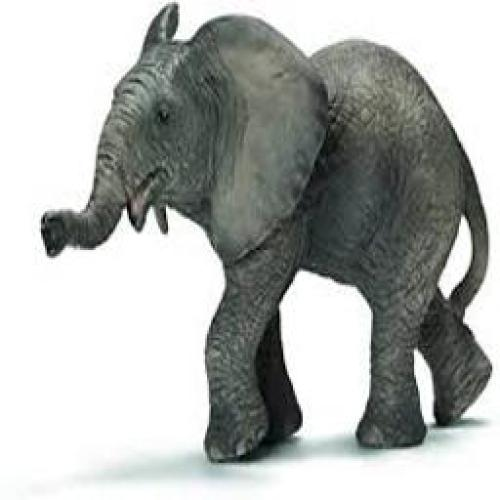african_elephant-endangered: (36, 3, 494, 464)
